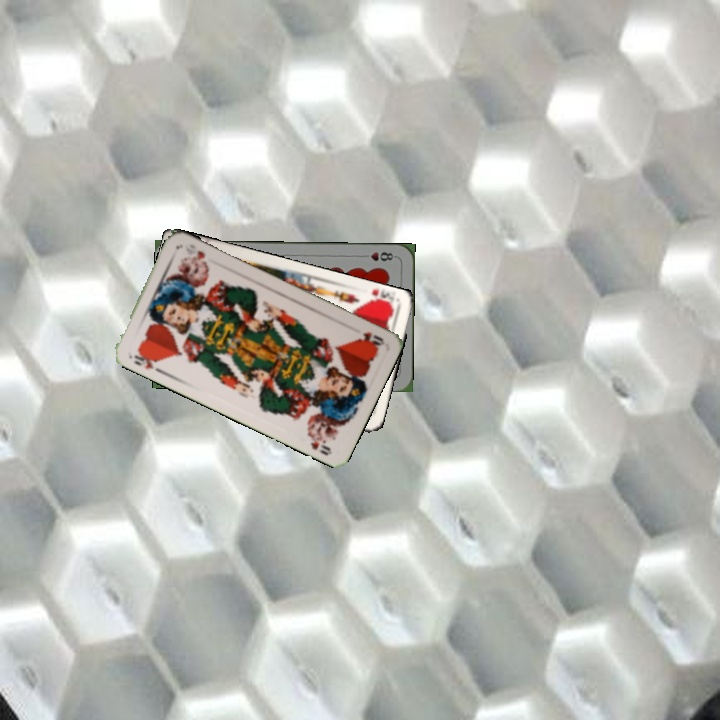H8: (358, 248, 398, 263)
HK: (362, 285, 397, 311)
HO: (129, 347, 162, 372), (354, 327, 387, 350)
